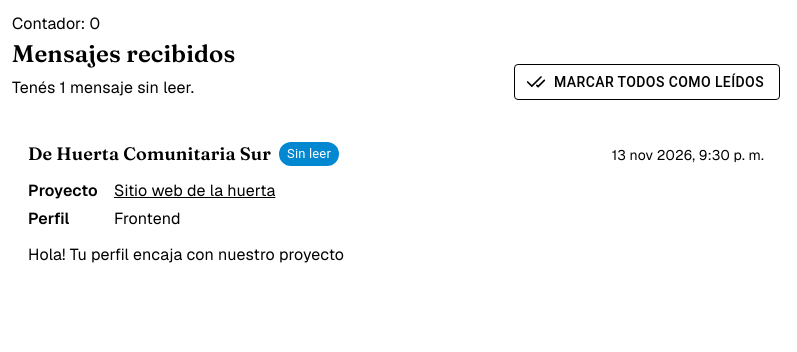
Scenario: PaginaMensajes › si no se pueden marcar, muestra el error y siguen sin leer
This screenshot has width=797, height=352.
Click the button "Marcar todos como leídos": (647, 82) 514,64 -> 780,100
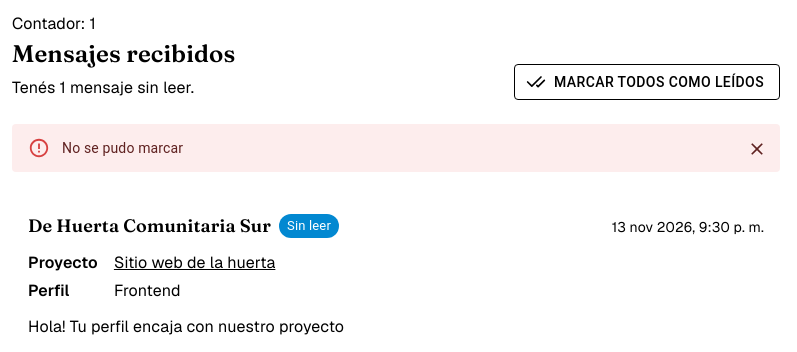
Expected: the text "Sin leer" is shown, 287,218 -> 331,233
Now the text "No se pudo marcar" is shown, box 62,140 -> 183,156
